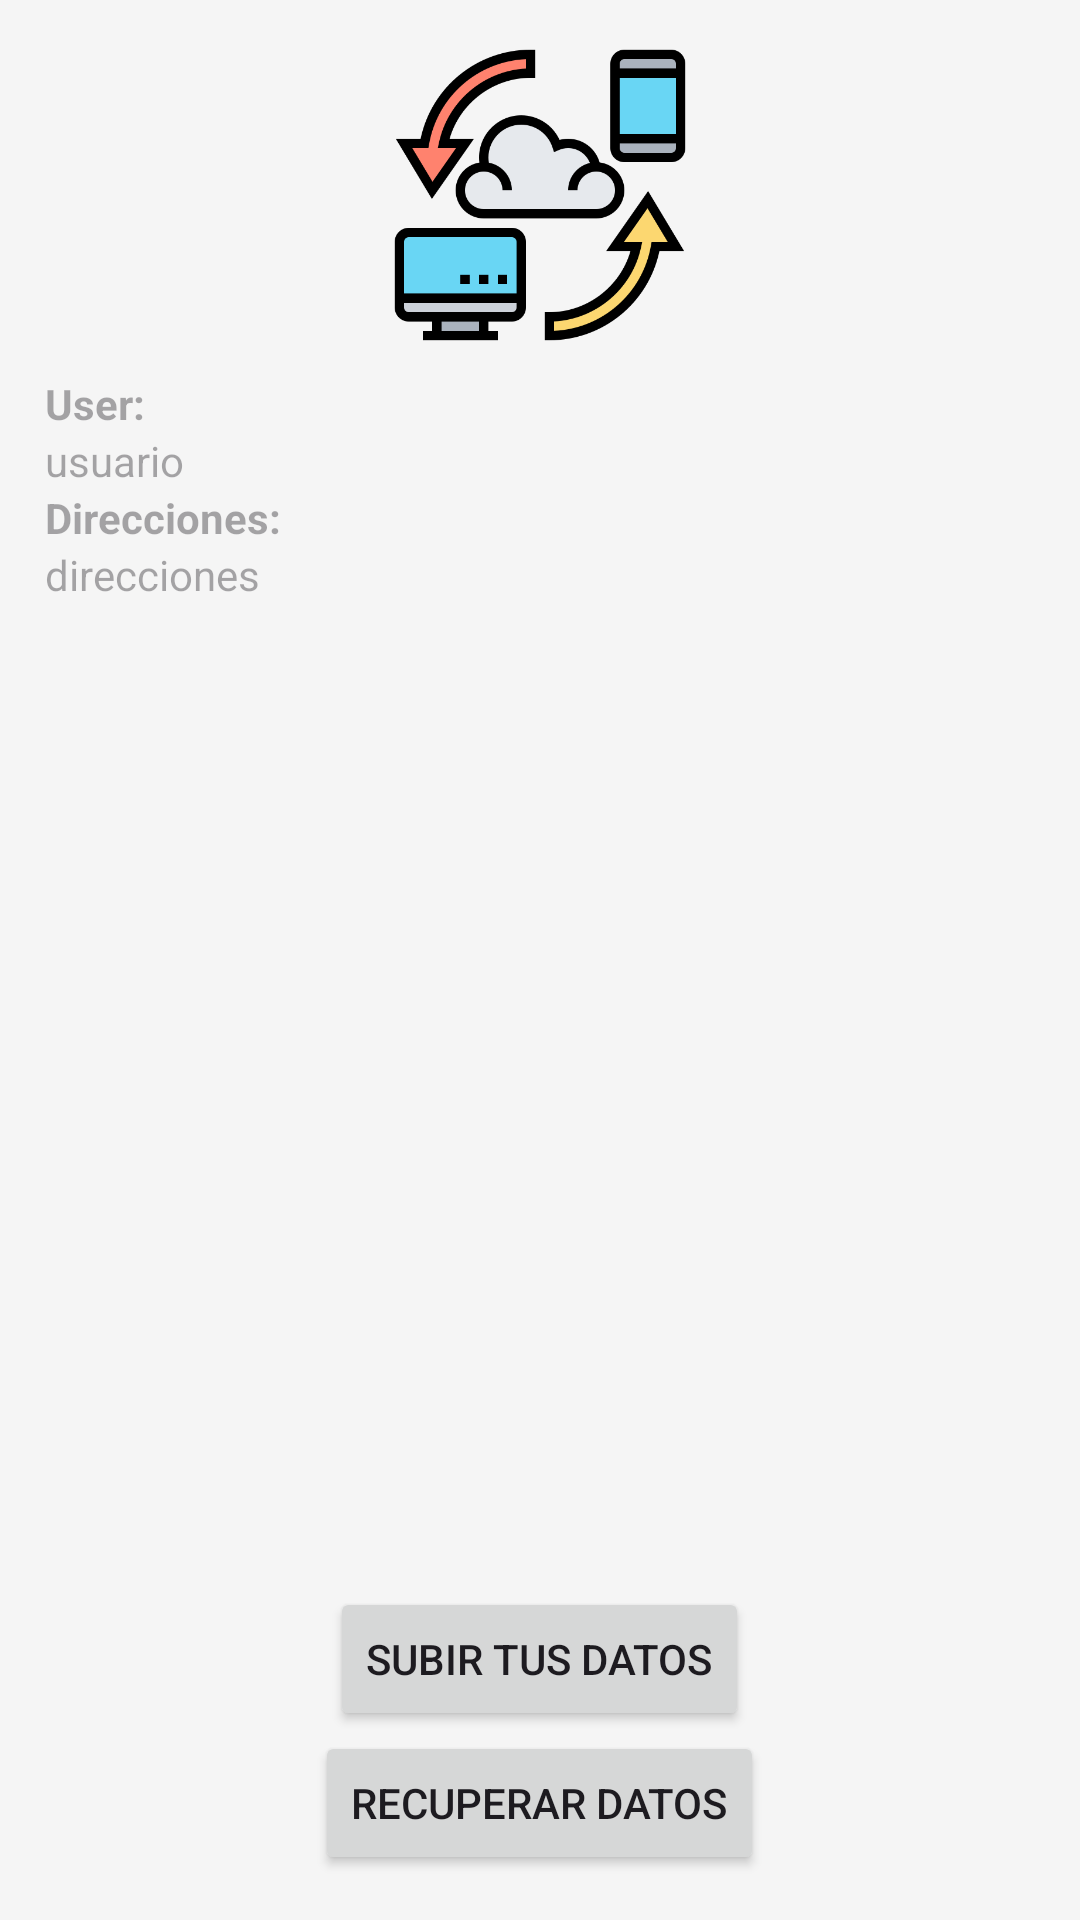

Point at icon controls on the screen. Image size 1080*1920, points as (x=x, y=y).
sincronizar: (x=540, y=195)
